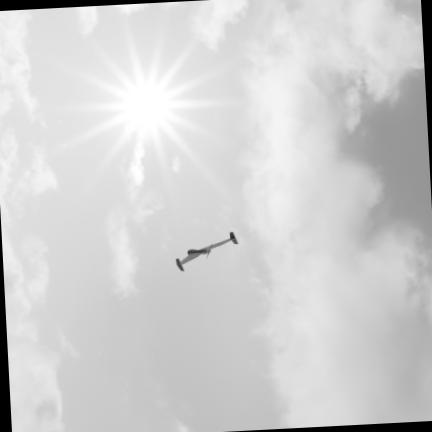Shahed: (175, 232, 238, 272)
